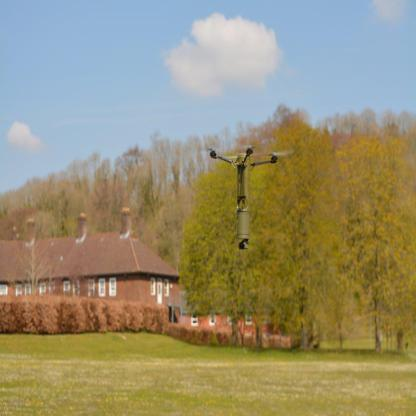UAS: (191, 141, 297, 251)
